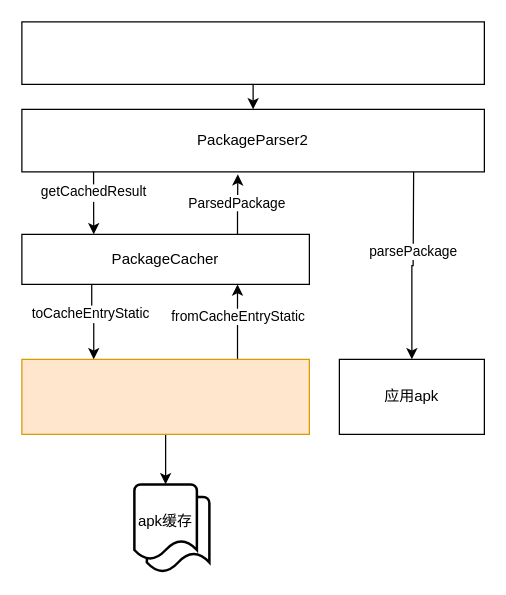
The diagram is 506 pixels wide and 595 high, and some of its shapes have lost their labels. Here are the shapes that lost their labels. From the top down, the centre of each, then its label:
At point (252, 52): "PackageManagerService".
At point (165, 396): "/data/system/package_cache/$hash_key".
